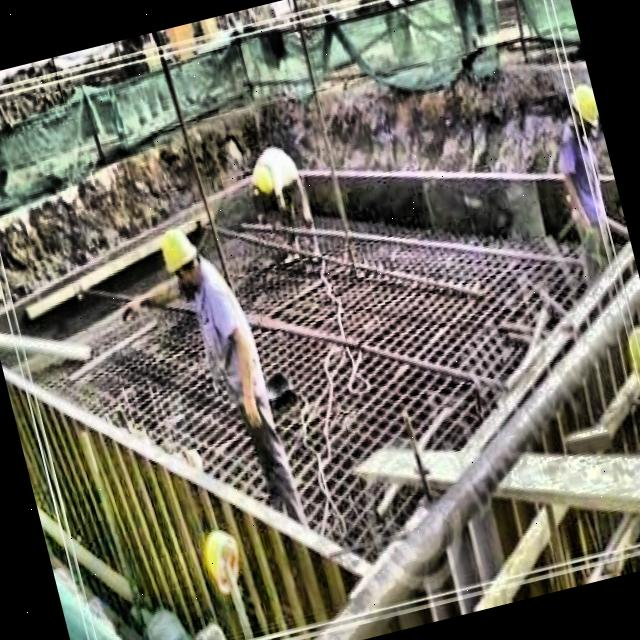helmet: (150, 220, 208, 294), (561, 76, 602, 140), (618, 315, 640, 395)
